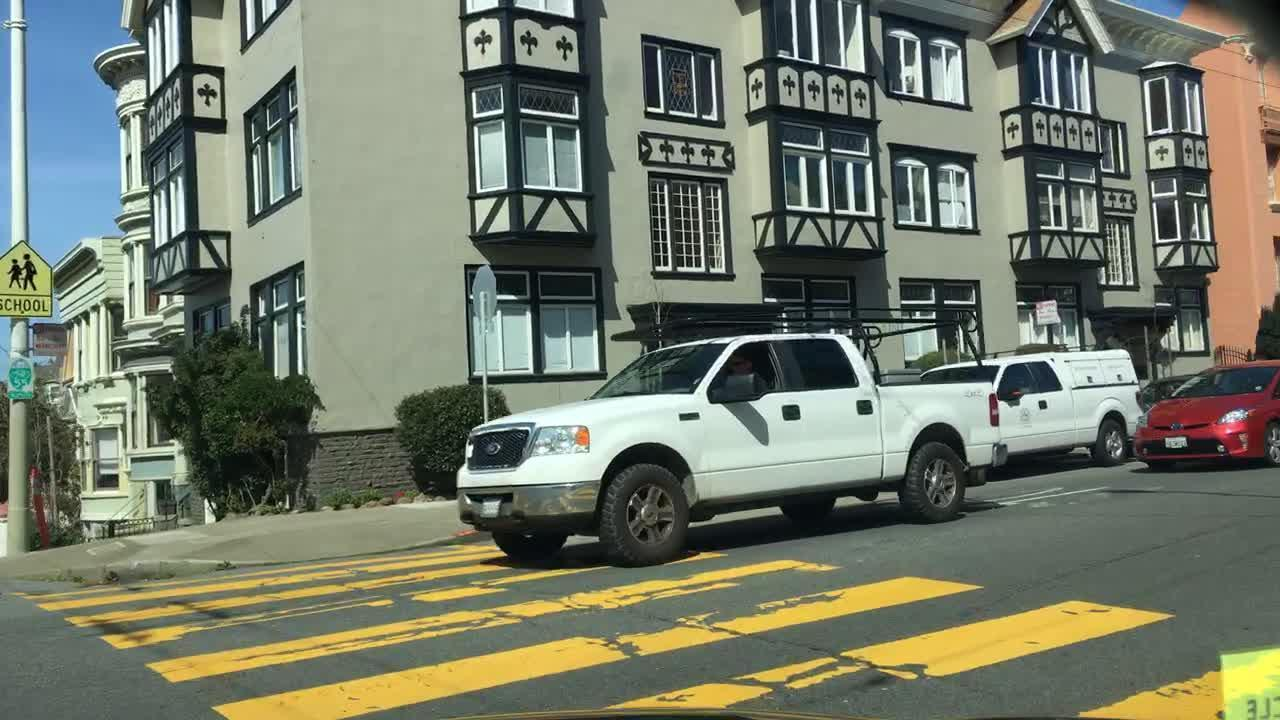ford: (481, 441, 507, 457)
